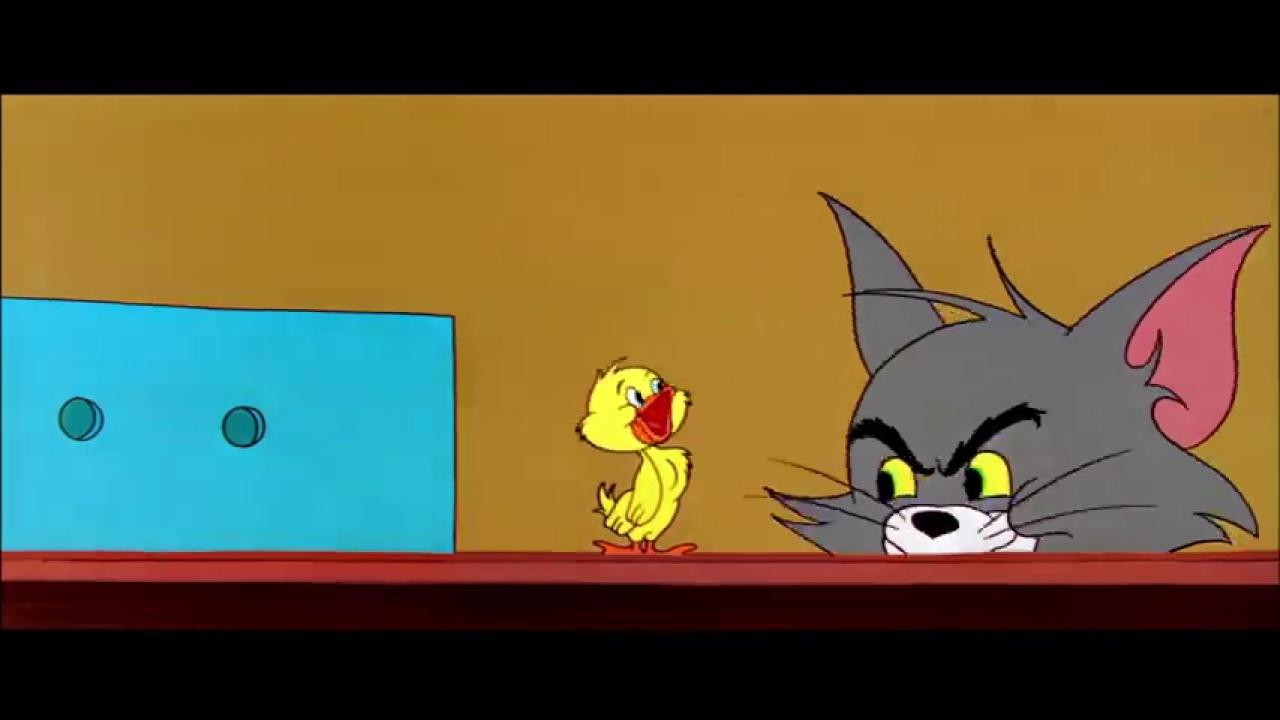Tom: (762, 190, 1280, 555)
